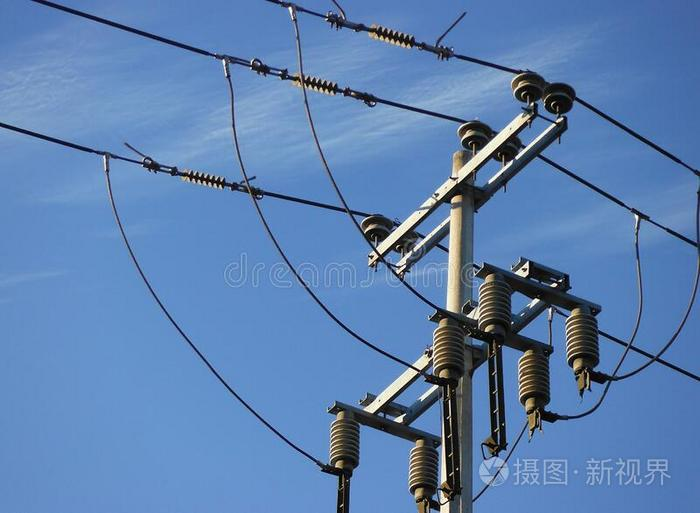insulator: (291, 70, 336, 100), (371, 23, 416, 51), (179, 171, 226, 192)
